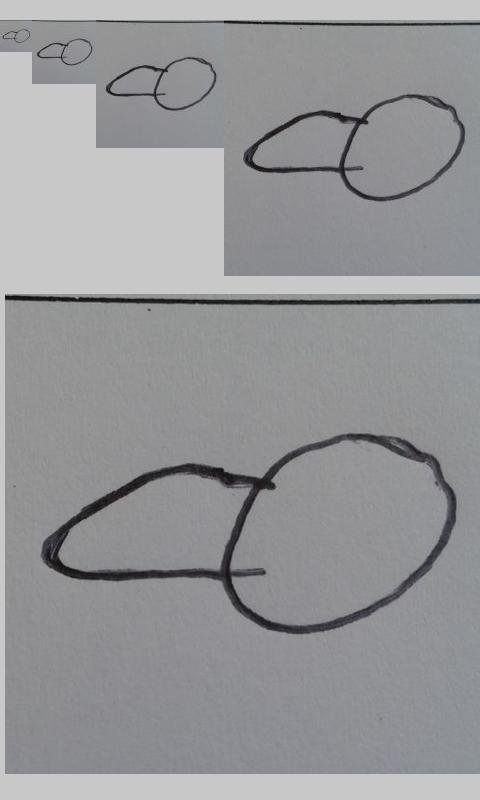switch: (41, 431, 458, 635), (242, 93, 465, 203), (105, 55, 218, 111), (36, 38, 93, 66), (2, 28, 31, 43)
